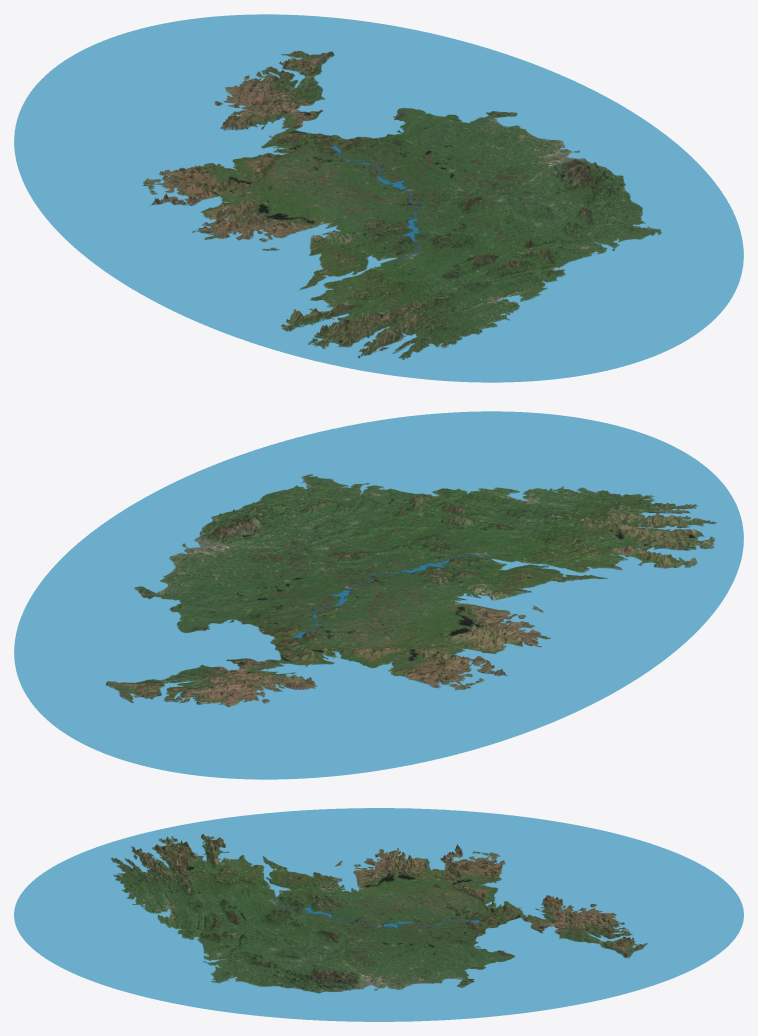
The model's file is IRL-previa-terrain.glb.
The picture shows the model from 3 angles, top to bottom: view 1: azimuth 30°, elevation 25°; view 2: azimuth 150°, elevation 25°; view 3: azimuth 270°, elevation 25°; orthographic projection. The views are drawn at different scales.
Parts seen in each view (by area): view 1: República da Irlanda; view 2: República da Irlanda; view 3: República da Irlanda.
Part boxes in pixels (x1,y1,x2,y2): República da Irlanda: (14,14,743,382); República da Irlanda: (14,411,743,779); República da Irlanda: (14,808,743,1021).
Size of the model in its own units: 1.65 by 0.0293 by 2.38.
Materials: 1 (1 with a texture image).
